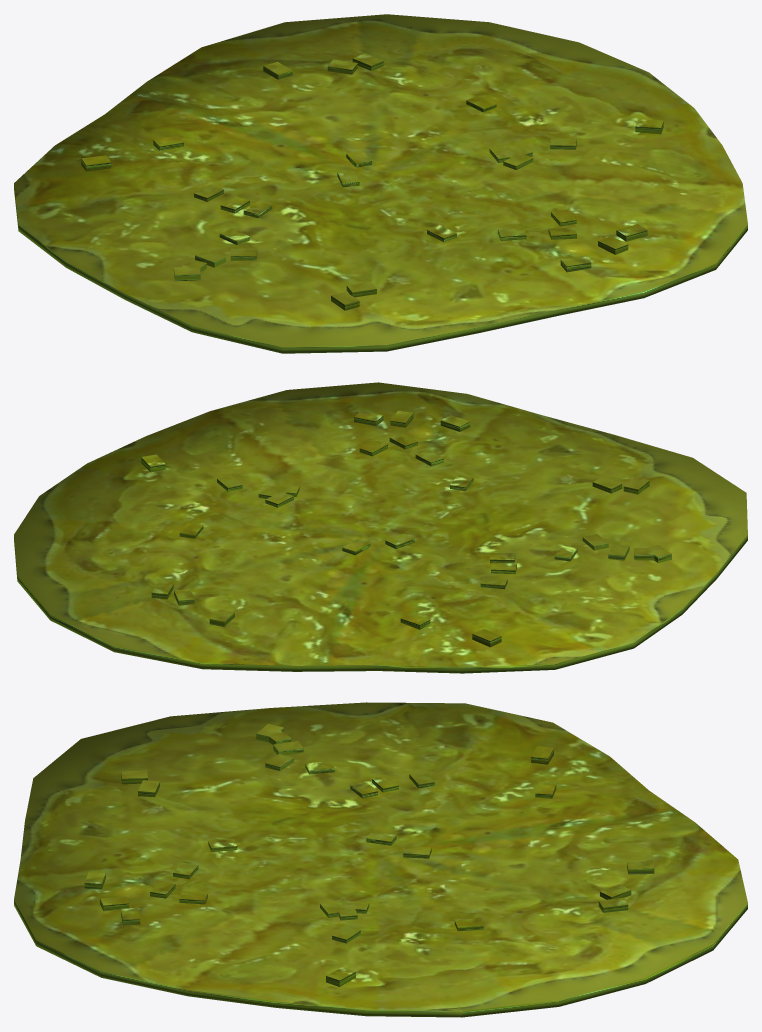
Rendered from sauce-relish.glb.
3 renders of one model, top to bottom at view 1: azimuth 30°, elevation 25°; view 2: azimuth 150°, elevation 25°; view 3: azimuth 270°, elevation 25°, orthographic. The views are drawn at different scales.
Parts seen in each view (by area): view 1: sauce-relish; view 2: sauce-relish; view 3: sauce-relish.
Boxes of the visible parts, x1,y1,x2,y2 form: sauce-relish: [14, 14, 747, 353]; sauce-relish: [14, 382, 747, 673]; sauce-relish: [14, 702, 747, 1017].
Size of the model in its own units: 8.38 by 0.18 by 8.42.
1 material, 1 textured.
